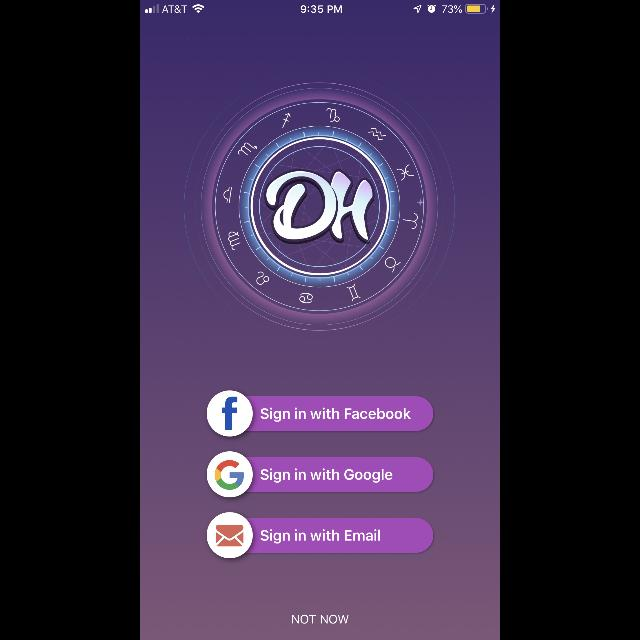icon: (207, 512, 253, 558), (207, 451, 253, 497), (207, 391, 253, 437)
image: (184, 70, 456, 332)
text: (292, 614, 350, 624)
textbutton: (253, 396, 433, 432), (254, 458, 434, 492), (253, 518, 433, 552)
uppertaskbar: (140, 0, 500, 14)
